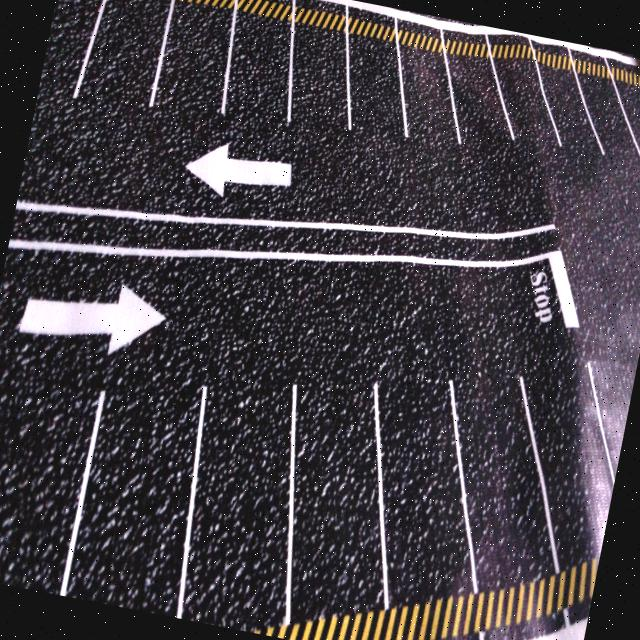slots: (68, 383, 201, 615), (182, 374, 291, 629), (453, 370, 558, 590), (292, 376, 383, 621), (379, 369, 471, 605), (0, 388, 99, 593), (525, 371, 613, 570), (154, 0, 233, 119), (80, 0, 170, 103), (226, 9, 290, 126), (448, 49, 512, 153), (494, 57, 558, 151), (291, 24, 348, 128), (349, 31, 404, 136), (400, 45, 457, 146), (538, 58, 597, 148), (580, 76, 637, 157), (618, 82, 640, 152)
